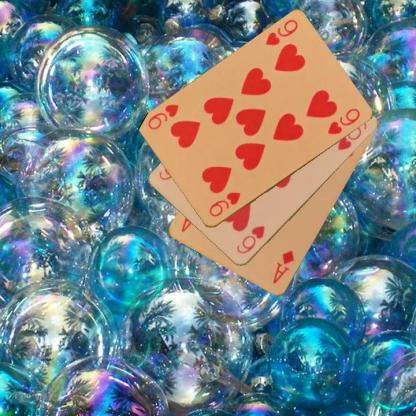6h: (233, 223, 266, 255)
9h: (262, 17, 300, 47), (206, 190, 242, 218)
Ad: (270, 248, 296, 285)
